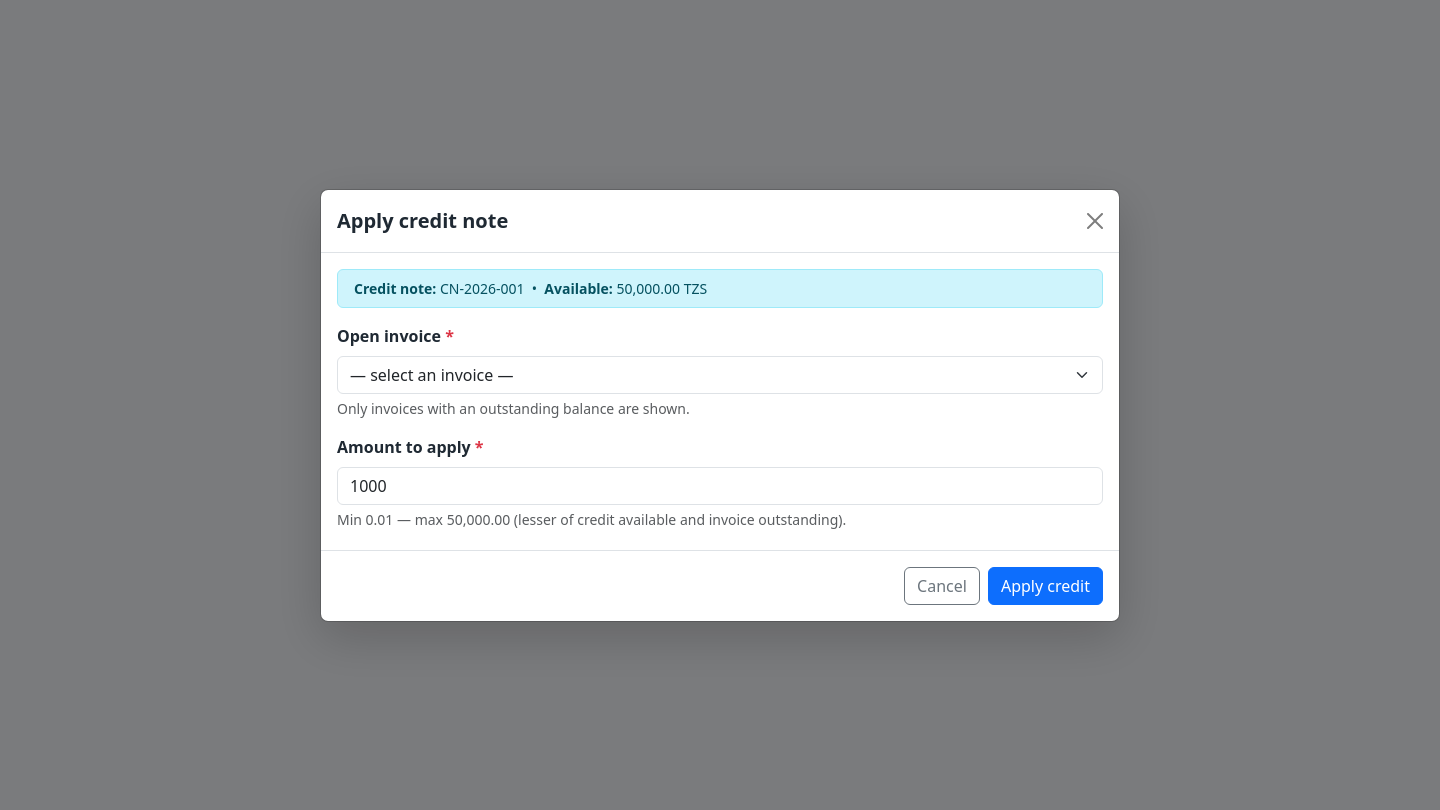
Test case: CreditNoteApplyModalComponent › form validation › shows error when no invoice is selected on submit
Step 1. Click the submit button → (1045, 586), box [988, 566, 1103, 604]
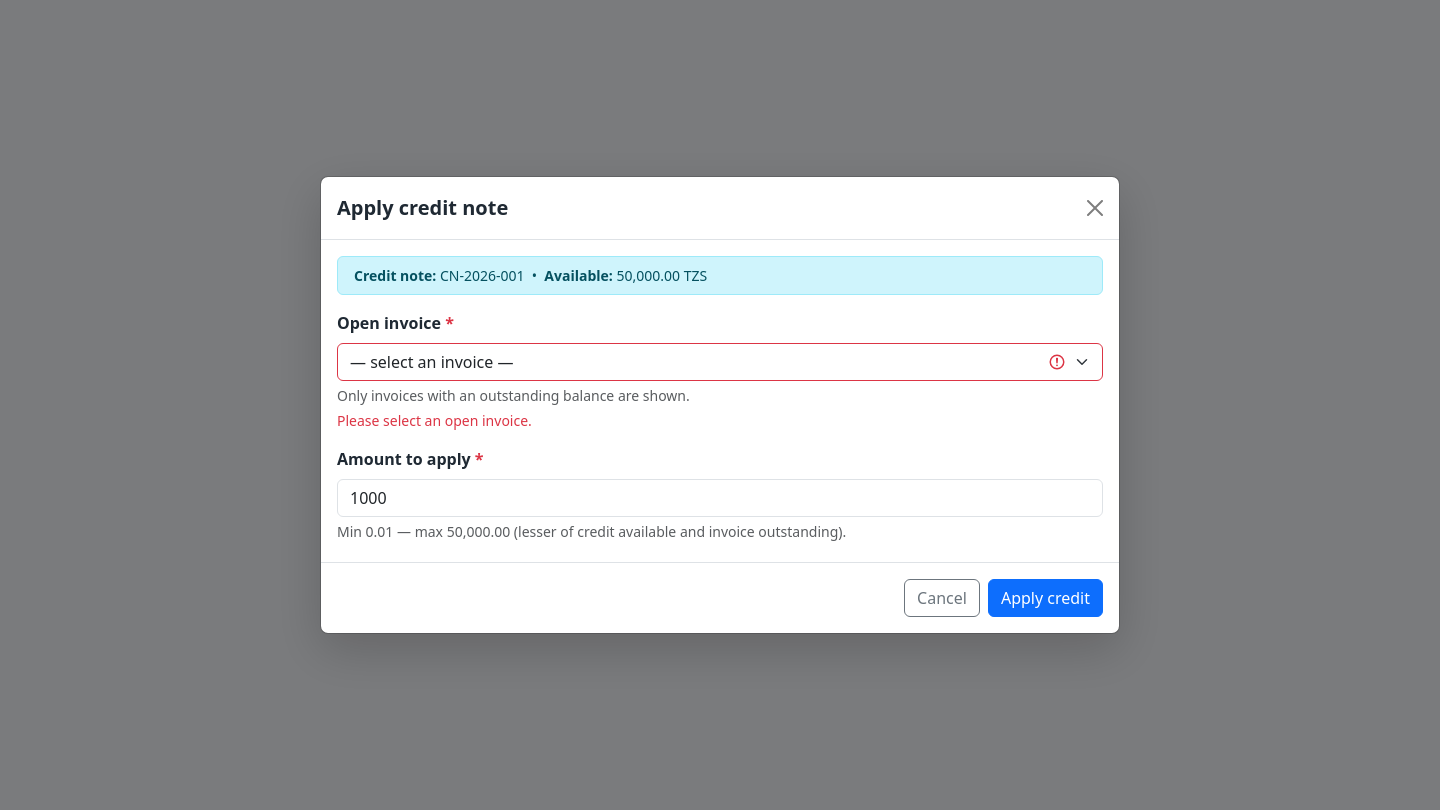
Check: the text "Please select an open invoice" is shown, box [337, 411, 532, 430]
